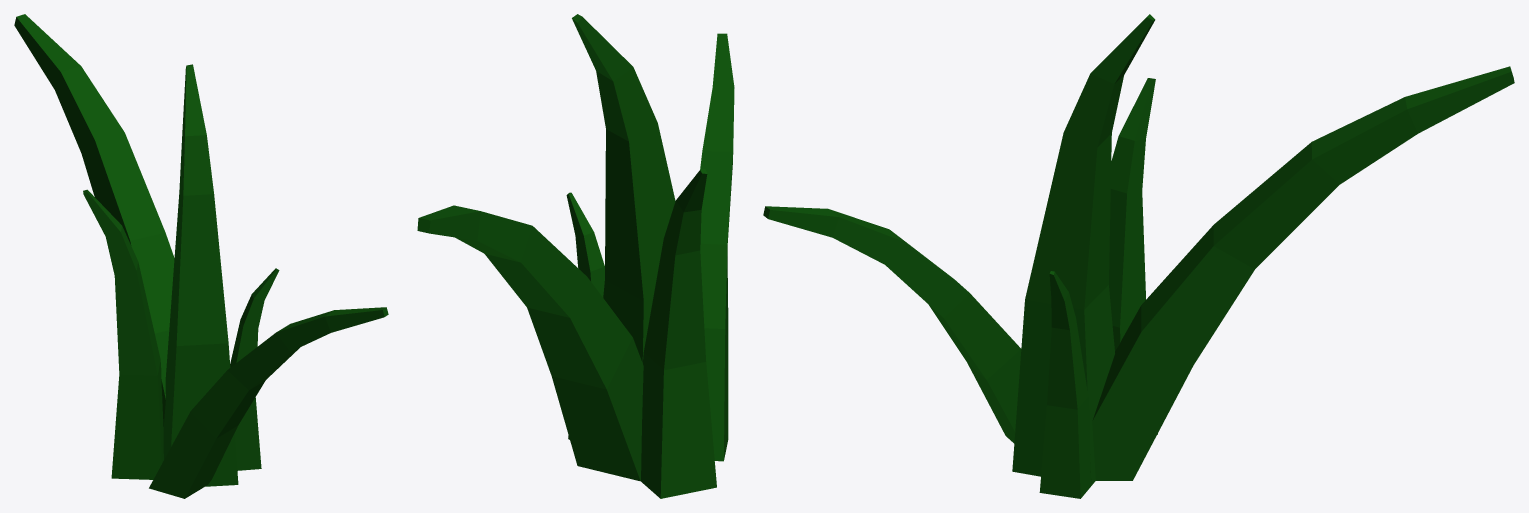
The model's file is grass.obj.
3 renders of one model, left to right at view 1: azimuth 30°, elevation 25°; view 2: azimuth 150°, elevation 25°; view 3: azimuth 270°, elevation 25°, orthographic. The views are drawn at different scales.
Parts seen in each view (by area): view 1: Cube.001, Cube, Cube.002, Cube.003, Cube.004; view 2: Cube, Cube.002, Cube.001, Cube.003, Cube.004; view 3: Cube, Cube.001, Cube.003, Cube.004, Cube.002.
Part boxes in pixels (left/top/right/bottom): Cube.001: left=163, top=64, right=238, bottom=486; Cube: left=14, top=14, right=174, bottom=426; Cube.002: left=83, top=189, right=163, bottom=479; Cube.003: left=149, top=307, right=388, bottom=498; Cube.004: left=230, top=268, right=279, bottom=470; Cube: left=417, top=205, right=643, bottom=481; Cube.002: left=641, top=169, right=716, bottom=498; Cube.001: left=572, top=14, right=675, bottom=362; Cube.003: left=700, top=33, right=734, bottom=461; Cube.004: left=566, top=192, right=604, bottom=439; Cube: left=1092, top=66, right=1514, bottom=480; Cube.001: left=1012, top=14, right=1155, bottom=485; Cube.003: left=763, top=206, right=1021, bottom=443; Cube.004: left=1039, top=271, right=1093, bottom=498; Cube.002: left=1109, top=78, right=1157, bottom=434.
Bounding box in the file's own units: 5.98 × 13.9 × 20.53.
